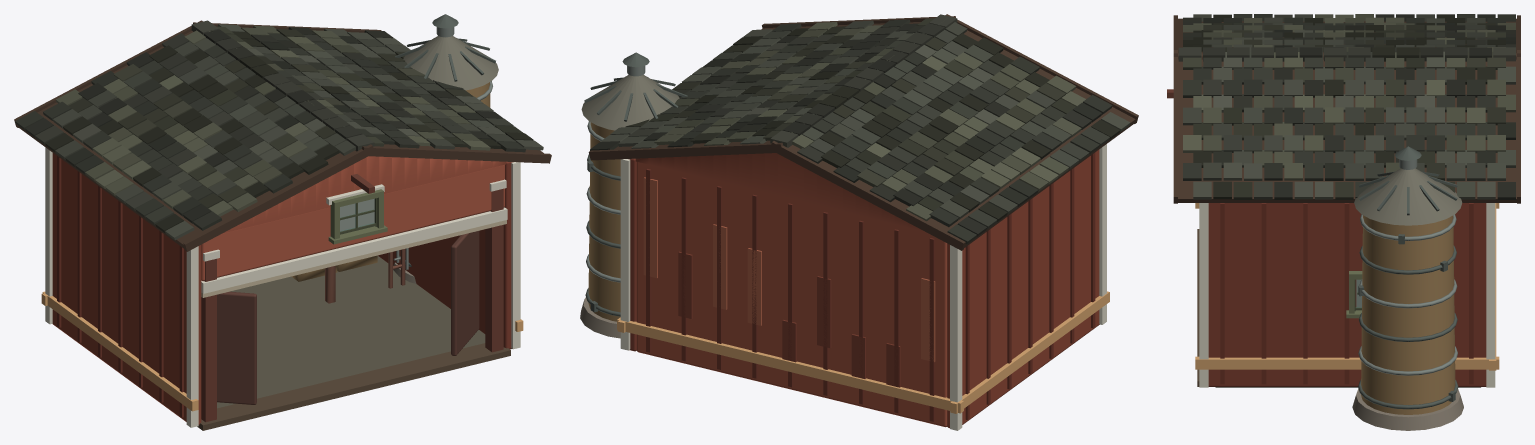
Rendered from barn.fixed.glb.
The picture shows the model from 3 angles, left to right: view 1: azimuth 30°, elevation 25°; view 2: azimuth 150°, elevation 25°; view 3: azimuth 270°, elevation 25°; orthographic projection. The views are drawn at different scales.
Parts seen in each view (by area): view 1: barnRoof, barnTrim, barnInteriorFloor, barnLeftWall, barnUpperFront, barnbatch1, barnFrontGable, barnRightWall, siloHardware, barnbatch0, barnHayLoft, windowPane (+1 smaller); view 2: barnRoof, barnRearWall, barnTrim, barnLeftWall, barnRearGable, siloHardware, siloStaves, barnRightWall; view 3: barnRoof, barnRightWall, siloStaves, barnTrim, siloHardware, barnbatch0.
Part boxes in pixels (box(x1,y1,x2,y2)): barnRoof: box(14, 20, 551, 251); barnTrim: box(41, 147, 523, 430); barnInteriorFloor: box(217, 256, 485, 408); barnLeftWall: box(52, 153, 201, 425); barnUpperFront: box(201, 164, 504, 281); barnbatch1: box(217, 231, 479, 404); barnFrontGable: box(222, 156, 505, 233); barnRightWall: box(378, 161, 513, 349); siloHardware: box(393, 14, 498, 283); barnbatch0: box(328, 189, 387, 244); barnHayLoft: box(325, 249, 405, 303); windowPane: box(340, 198, 374, 231); barnRoof: box(588, 14, 1138, 250); barnRearWall: box(636, 162, 947, 427); barnTrim: box(617, 144, 1109, 430); barnLeftWall: box(947, 149, 1099, 428); barnRearGable: box(635, 153, 924, 231); siloHardware: box(580, 52, 687, 338); siloStaves: box(588, 122, 620, 321); barnRightWall: box(628, 158, 636, 351); barnRoof: box(1173, 14, 1520, 203); barnRightWall: box(1208, 203, 1486, 386); siloStaves: box(1361, 215, 1455, 414); barnTrim: box(1167, 89, 1499, 387); siloHardware: box(1352, 146, 1463, 430); barnbatch0: box(1346, 271, 1362, 318).
Bounding box in the file's own units: 11.04 × 6.39 × 7.85.
